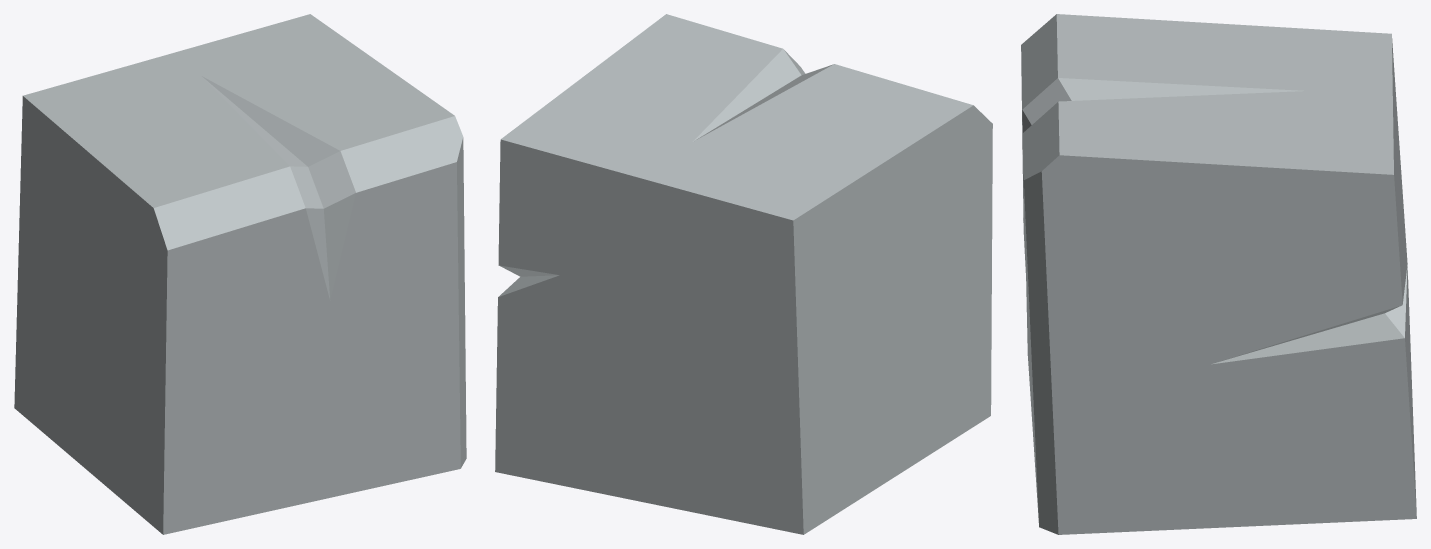
File: maya_export_StoneWall2.fbx
3 views of the same model, side by side, from view 1: azimuth 30°, elevation 25°; view 2: azimuth 150°, elevation 25°; view 3: azimuth 270°, elevation 25° (orthographic). The views are drawn at different scales.
Parts seen in each view (by area): view 1: StoneWall2; view 2: StoneWall2; view 3: StoneWall2.
Boxes of the visible parts, x1,y1,x2,y2 form: StoneWall2: (14,14,466,534); StoneWall2: (495,14,992,534); StoneWall2: (1021,14,1416,534).
Size of the model in its own units: 11.44 by 11.88 by 11.4.
1 material, 1 textured.
